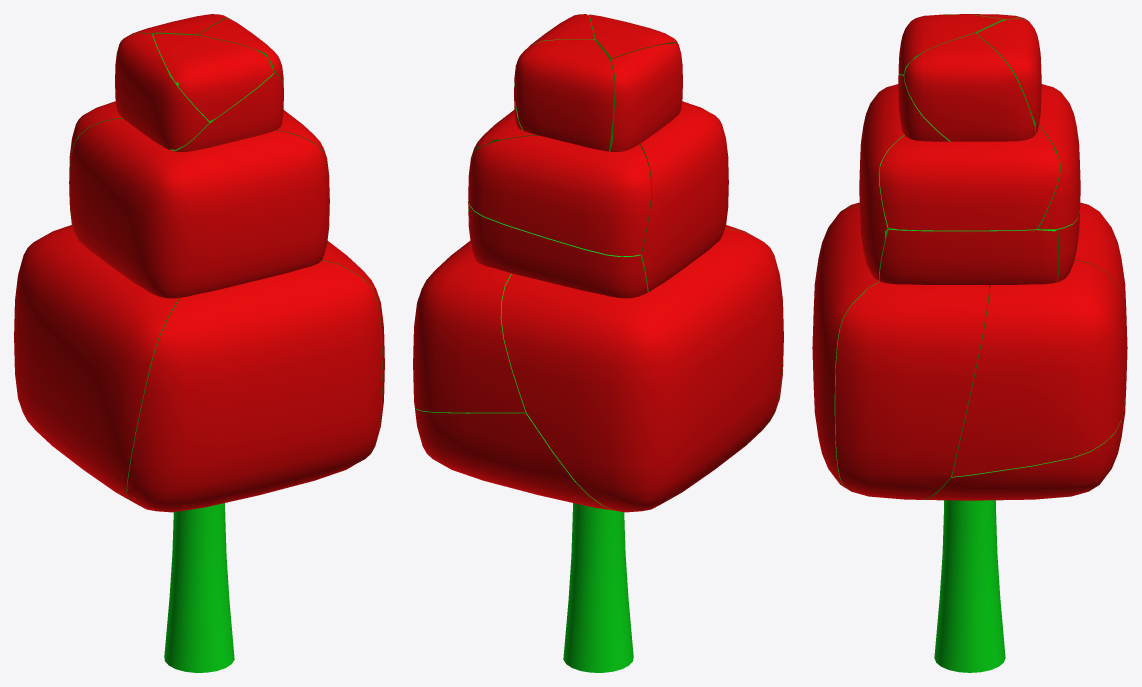
Rendered from TreeTest.fbx.
3 views of the same model, side by side, from view 1: azimuth 30°, elevation 25°; view 2: azimuth 150°, elevation 25°; view 3: azimuth 270°, elevation 25° (orthographic).
Parts seen in each view (by area): view 1: Cylinder.003_cell, Cylinder.002_cell.004, Cylinder.003_cell.001, Cylinder, Cylinder.001_cell.001, Cylinder.001_cell.004, Cylinder.001_cell.003, Cylinder.001_cell, Cylinder.003_cell.002, Cylinder.001_cell.002, Cylinder.002_cell, Cylinder.002_cell.003; view 2: Cylinder.003_cell.001, Cylinder.002_cell, Cylinder.003_cell.004, Cylinder.002_cell.004, Cylinder, Cylinder.003_cell.003, Cylinder.001_cell.002, Cylinder.002_cell.002, Cylinder.001_cell.001, Cylinder.001_cell.004, Cylinder.001_cell, Cylinder.002_cell.003; view 3: Cylinder.003_cell.004, Cylinder.003_cell.002, Cylinder.002_cell.003, Cylinder, Cylinder.001_cell, Cylinder.002_cell.001, Cylinder.003_cell, Cylinder.003_cell.003, Cylinder.002_cell.004, Cylinder.002_cell, Cylinder.001_cell.002, Cylinder.001_cell.004 (+3 smaller).
Boxes of the visible parts, x1,y1,x2,y2 form: Cylinder.003_cell: (127, 260, 382, 512); Cylinder.002_cell.004: (69, 118, 329, 298); Cylinder.003_cell.001: (14, 225, 179, 499); Cylinder: (164, 503, 234, 672); Cylinder.001_cell.001: (115, 33, 209, 150); Cylinder.001_cell.004: (153, 33, 273, 121); Cylinder.001_cell.003: (174, 73, 283, 152); Cylinder.001_cell: (198, 18, 283, 86); Cylinder.003_cell.002: (322, 241, 384, 451); Cylinder.001_cell.002: (129, 14, 228, 35); Cylinder.002_cell: (69, 101, 122, 177); Cylinder.002_cell.003: (276, 110, 329, 182); Cylinder.003_cell.001: (501, 228, 783, 512); Cylinder.002_cell: (468, 135, 651, 256); Cylinder.003_cell.004: (413, 241, 525, 412); Cylinder.002_cell.004: (639, 101, 728, 291); Cylinder: (563, 503, 633, 672); Cylinder.003_cell.003: (414, 406, 614, 510); Cylinder.001_cell.002: (514, 39, 614, 151); Cylinder.002_cell.002: (468, 202, 647, 298); Cylinder.001_cell.001: (609, 43, 682, 151); Cylinder.001_cell.004: (588, 14, 677, 60); Cylinder.001_cell: (514, 14, 594, 130); Cylinder.002_cell.003: (470, 110, 536, 162); Cylinder.003_cell.004: (952, 260, 1127, 476); Cylinder.003_cell.002: (835, 281, 989, 499); Cylinder.002_cell.003: (879, 126, 1059, 230); Cylinder: (934, 500, 1005, 672); Cylinder.001_cell: (904, 33, 1035, 141); Cylinder.002_cell.001: (879, 228, 1058, 287); Cylinder.003_cell: (812, 206, 879, 490); Cylinder.003_cell.003: (924, 359, 1127, 500); Cylinder.002_cell.004: (859, 84, 904, 281); Cylinder.002_cell: (1037, 84, 1080, 229); Cylinder.001_cell.002: (976, 18, 1041, 133); Cylinder.001_cell.004: (898, 14, 1003, 74).
Bounding box in the file's own units: 127 × 279 × 127.
